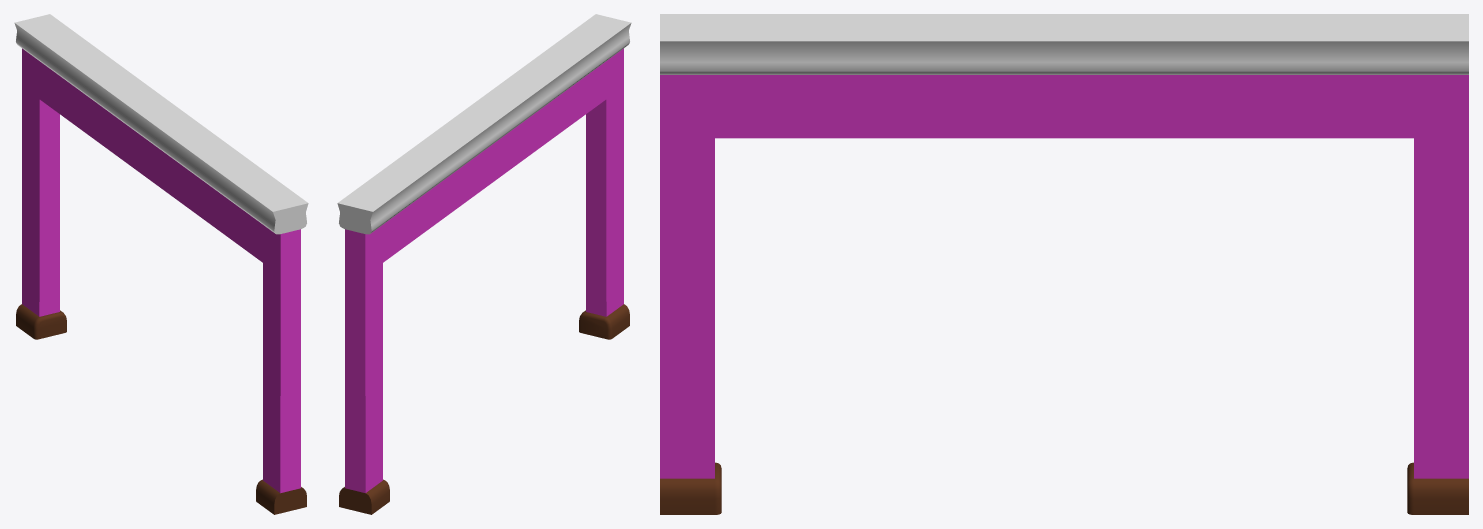
The model's file is door4m.fbx.
The picture shows the model from 3 angles, left to right: view 1: azimuth 30°, elevation 25°; view 2: azimuth 150°, elevation 25°; view 3: azimuth 270°, elevation 25°; orthographic projection. The views are drawn at different scales.
Visible parts, largest first — view 1: Plane.003; view 2: Plane.003; view 3: Plane.003.
Boxes of the visible parts, bbox=[...] form: Plane.003: bbox=[14, 14, 308, 514]; Plane.003: bbox=[337, 14, 631, 514]; Plane.003: bbox=[660, 14, 1468, 514].
Size of the model in its own units: 73.91 by 600 by 926.
